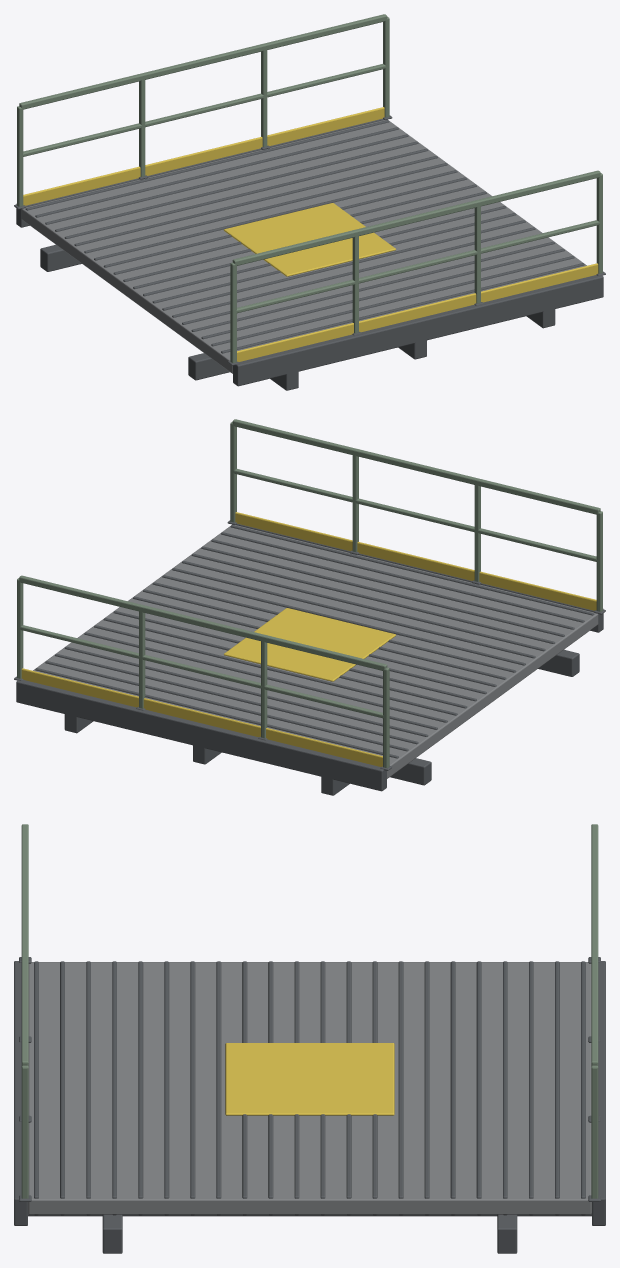
The model's file is catwalk_platform_4.fbx.
3 views of the same model, one above another, from view 1: azimuth 30°, elevation 25°; view 2: azimuth 150°, elevation 25°; view 3: azimuth 270°, elevation 25° (orthographic). The views are drawn at different scales.
Parts seen in each view (by area): view 1: catwalk_platform_4; view 2: catwalk_platform_4; view 3: catwalk_platform_4.
Boxes of the visible parts, x1=… form: catwalk_platform_4: x1=14, y1=14, x2=605, y2=390; catwalk_platform_4: x1=14, y1=419, x2=605, y2=795; catwalk_platform_4: x1=14, y1=824, x2=605, y2=1253.
Bounding box in the file's own units: 4.2 × 1.46 × 4.2.
